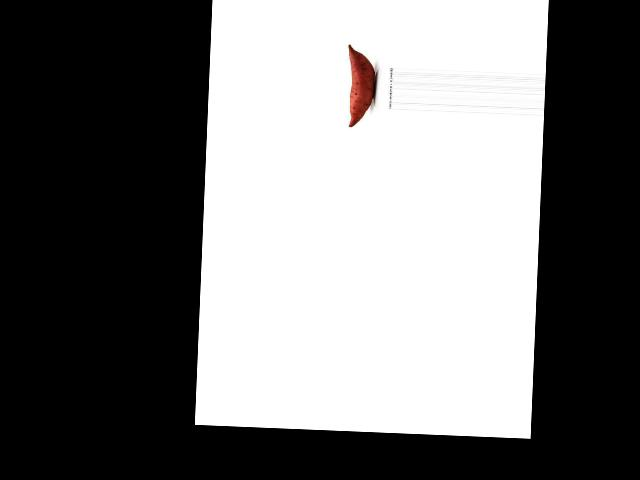sweet_potato: (340, 43, 377, 129)
